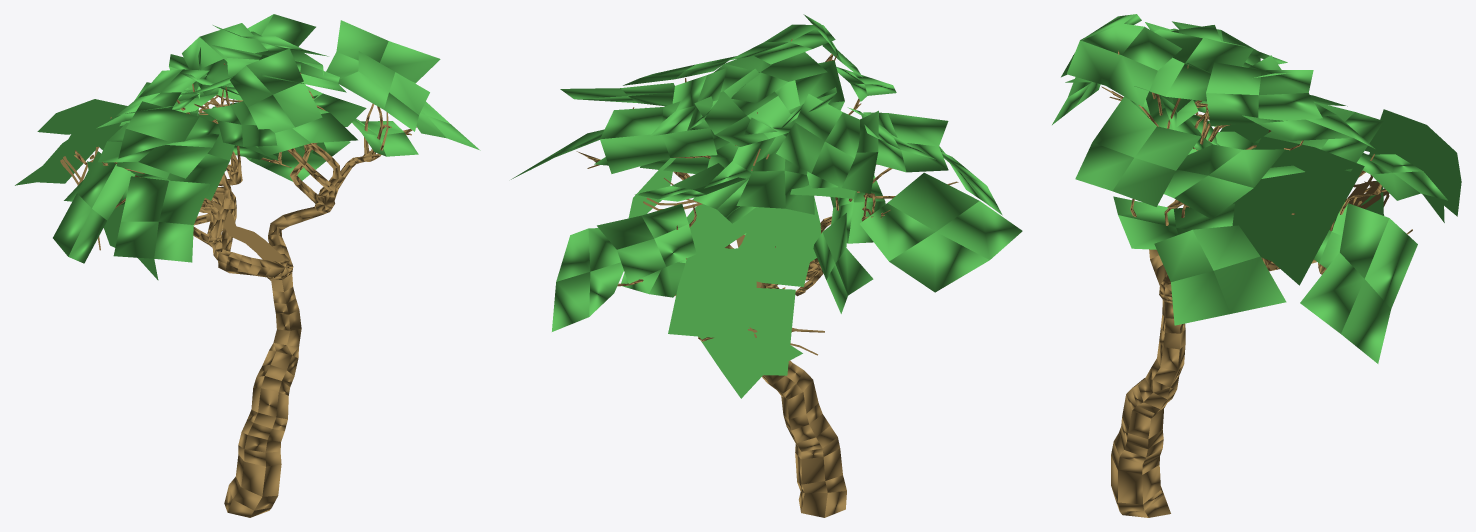
File: tree4.fbx
3 views of the same model, side by side, from view 1: azimuth 30°, elevation 25°; view 2: azimuth 150°, elevation 25°; view 3: azimuth 270°, elevation 25° (orthographic). The views are drawn at different scales.
Parts seen in each view (by area): view 1: tree04_mesh; view 2: tree04_mesh; view 3: tree04_mesh.
Part boxes in pixels (x1=…): tree04_mesh: x1=15, y1=14, x2=480, y2=517; tree04_mesh: x1=511, y1=14, x2=1022, y2=517; tree04_mesh: x1=1052, y1=14, x2=1461, y2=517.
Size of the model in its own units: 170 by 176 by 128.
